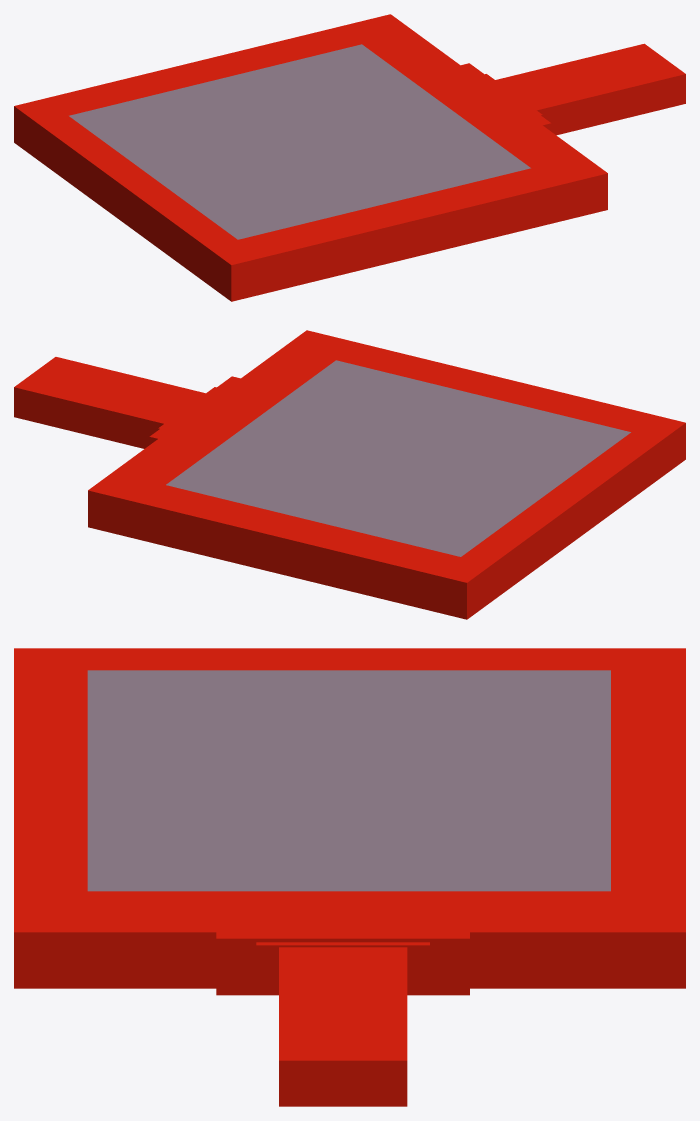
Rendered from mirror.glb.
The picture shows the model from 3 angles, top to bottom: view 1: azimuth 30°, elevation 25°; view 2: azimuth 150°, elevation 25°; view 3: azimuth 270°, elevation 25°; orthographic projection. The views are drawn at different scales.
Parts seen in each view (by area): view 1: Cube, plate; view 2: Cube, plate; view 3: Cube, plate.
Boxes of the visible parts, box(x1,y1,x2,y2) form: Cube: box(14, 14, 685, 301); plate: box(69, 44, 530, 239); Cube: box(14, 330, 685, 619); plate: box(166, 360, 630, 556); Cube: box(14, 648, 685, 1106); plate: box(87, 670, 610, 891).
Size of the model in its own units: 11.72 by 0.7697 by 8.17.
